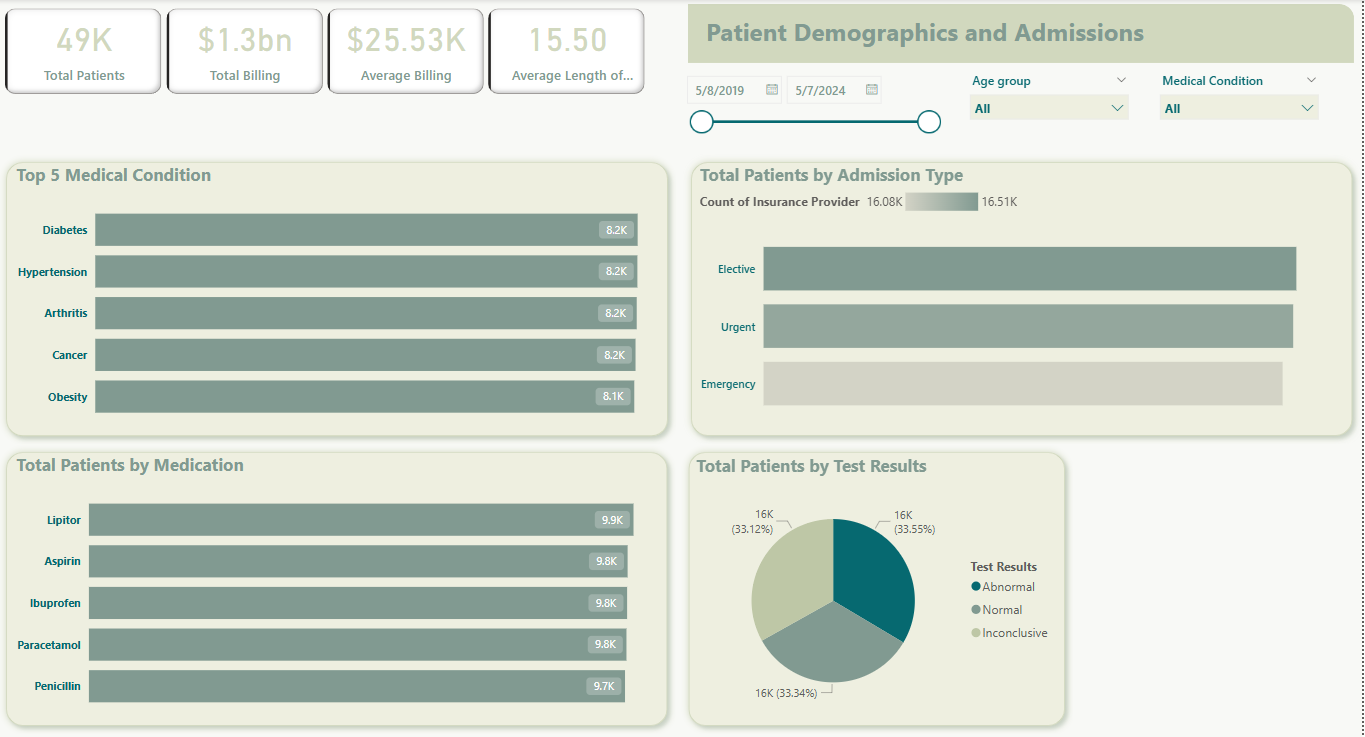

The page's visual inventory and layout, read from the dashboard file:
{"tool":"powerbi","page":{"name":"Patient Demographics and Admissions","canvas":[1500,820],"ordinal":1},"visuals":[{"type":"cardVisual","fields":{"Data":["healthcare_dataset.Total Patients","healthcare_dataset.Total Billing","healthcare_dataset.Average Billing","healthcare_dataset.Average Lngth of Stay"]},"box":[2.7,5.5,713.1,104.4],"z":0},{"type":"shape","box":[758.8,5.9,732.4,65],"z":1000},{"type":"textbox","box":[758.4,12.4,520.7,50.8],"z":2000},{"type":"shape","box":[0,170.7,745.3,319.2],"z":3000},{"type":"slicer","fields":{"Values":["healthcare_dataset.Date of Admission"]},"box":[744.7,74.2,299.5,79.7],"z":4000},{"type":"slicer","fields":{"Values":["healthcare_dataset.Age group"]},"box":[1058,75.6,195.1,79.7],"z":5000},{"type":"slicer","fields":{"Values":["healthcare_dataset.Medical Condition"]},"box":[1266.8,75.6,195.1,79.7],"z":6000},{"type":"shape","box":[750.2,489.1,431.4,318.8],"z":7000},{"type":"shape","box":[0,489.1,744.7,318.8],"z":8000},{"type":"shape","box":[753,170.4,744.7,318.8],"z":9000},{"type":"clusteredBarChart","title":"Top 5 Medical Condition","fields":{"Category":["healthcare_dataset.Medical Condition"],"Y":["healthcare_dataset.Total Patients"]},"box":[15.1,180,715.9,299.5],"z":10000},{"type":"clusteredBarChart","fields":{"Y":["healthcare_dataset.Total Patients"],"Category":["healthcare_dataset.Admission Type"]},"box":[766.7,180,718.6,299.5],"z":11000},{"type":"clusteredBarChart","fields":{"Category":["healthcare_dataset.Medication"],"Y":["healthcare_dataset.Total Patients"]},"box":[14.5,498.5,715.6,299.1],"z":12000},{"type":"pieChart","fields":{"Category":["healthcare_dataset.Test Results"],"Y":["healthcare_dataset.Total Patients"]},"box":[762.6,500.1,405.3,298.2],"z":13000}]}

Visuals, with their boxes in screenshot pixels (x1, y1, x2, y2), scaled from the page's 1500x820 canvas onto the 1365x737 screenshot:
cardVisual - healthcare_dataset.Total Patients x healthcare_dataset.Total Billing: [x1=2, y1=5, x2=651, y2=99]
shape: [x1=691, y1=5, x2=1357, y2=64]
textbox: [x1=690, y1=11, x2=1164, y2=57]
shape: [x1=0, y1=153, x2=678, y2=440]
slicer - healthcare_dataset.Date of Admission: [x1=678, y1=67, x2=950, y2=138]
slicer - healthcare_dataset.Age group: [x1=963, y1=68, x2=1140, y2=140]
slicer - healthcare_dataset.Medical Condition: [x1=1153, y1=68, x2=1330, y2=140]
shape: [x1=683, y1=440, x2=1075, y2=726]
shape: [x1=0, y1=440, x2=678, y2=726]
shape: [x1=685, y1=153, x2=1363, y2=440]
"Top 5 Medical Condition" clusteredBarChart: [x1=14, y1=162, x2=665, y2=431]
clusteredBarChart - healthcare_dataset.Total Patients x healthcare_dataset.Admission Type: [x1=698, y1=162, x2=1352, y2=431]
clusteredBarChart - healthcare_dataset.Medication x healthcare_dataset.Total Patients: [x1=13, y1=448, x2=664, y2=717]
pieChart - healthcare_dataset.Test Results x healthcare_dataset.Total Patients: [x1=694, y1=449, x2=1063, y2=717]
